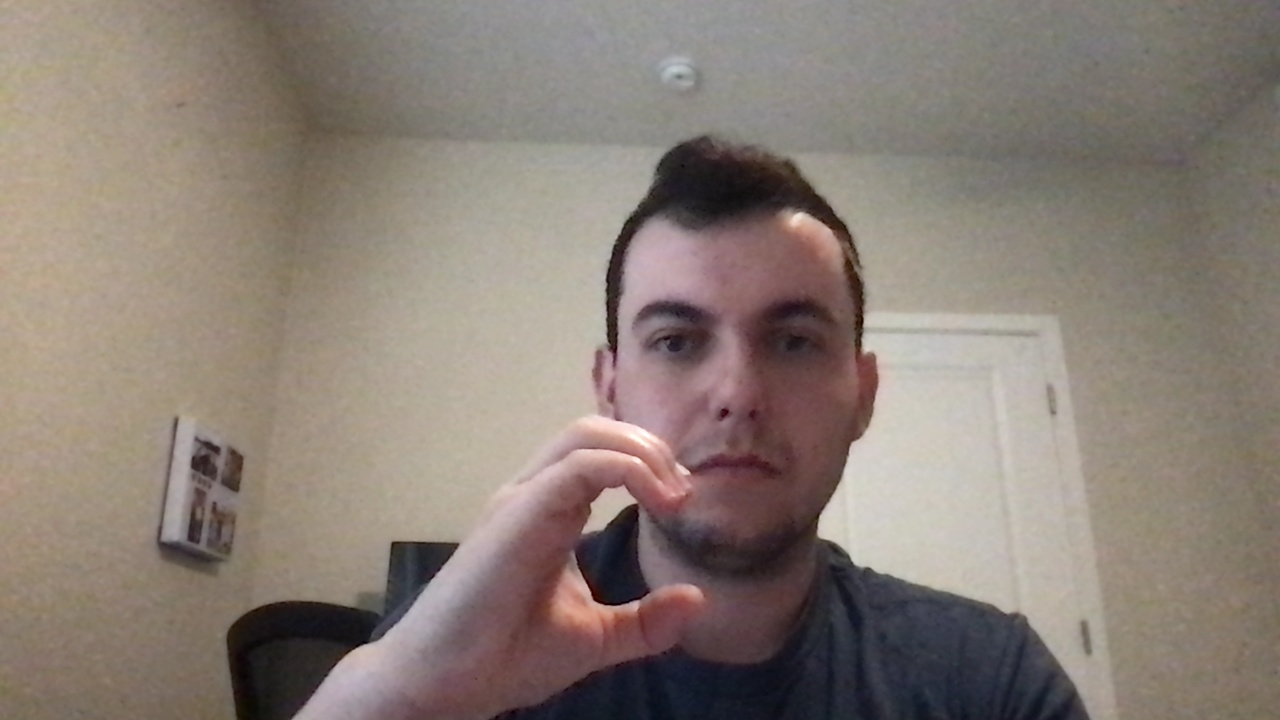c: (387, 409, 744, 694)
